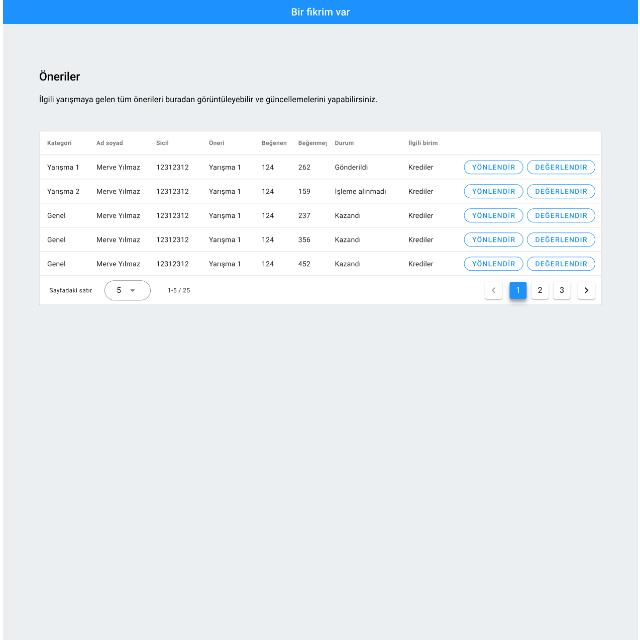QLabel: (37, 94, 379, 106), (286, 6, 352, 18), (38, 69, 80, 83)
VAppBar: (2, 0, 638, 24)
VDataTable: (39, 130, 601, 306)
